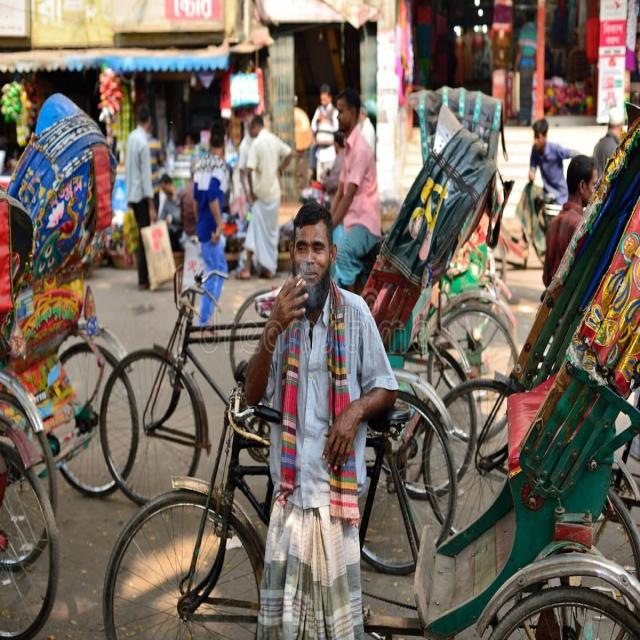Rickshaw: (84, 108, 640, 640), (96, 64, 493, 590), (215, 69, 538, 468), (1, 72, 137, 592), (1, 80, 147, 547)
